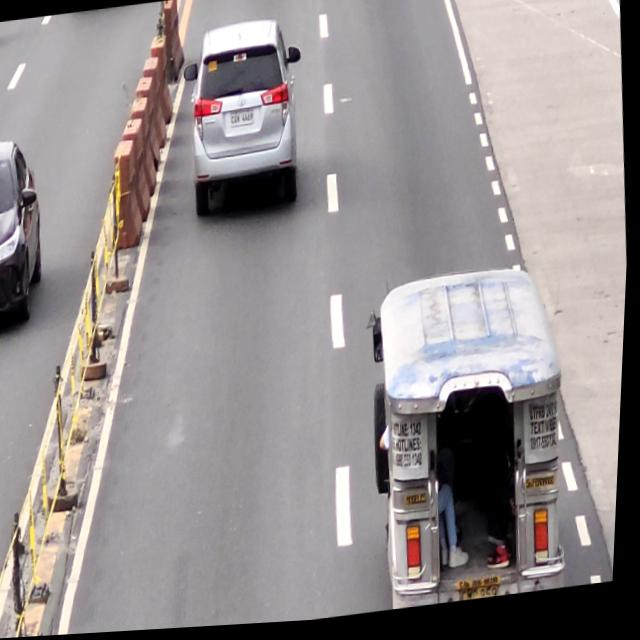Car: (177, 17, 313, 219)
Jeep: (360, 263, 585, 617)
License-Plate: (230, 111, 256, 131)
